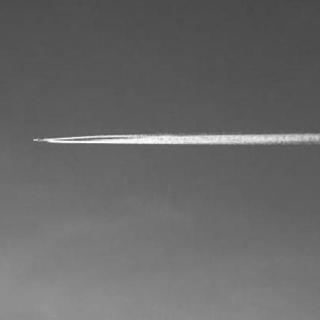Contrails: (43, 122, 320, 170)
